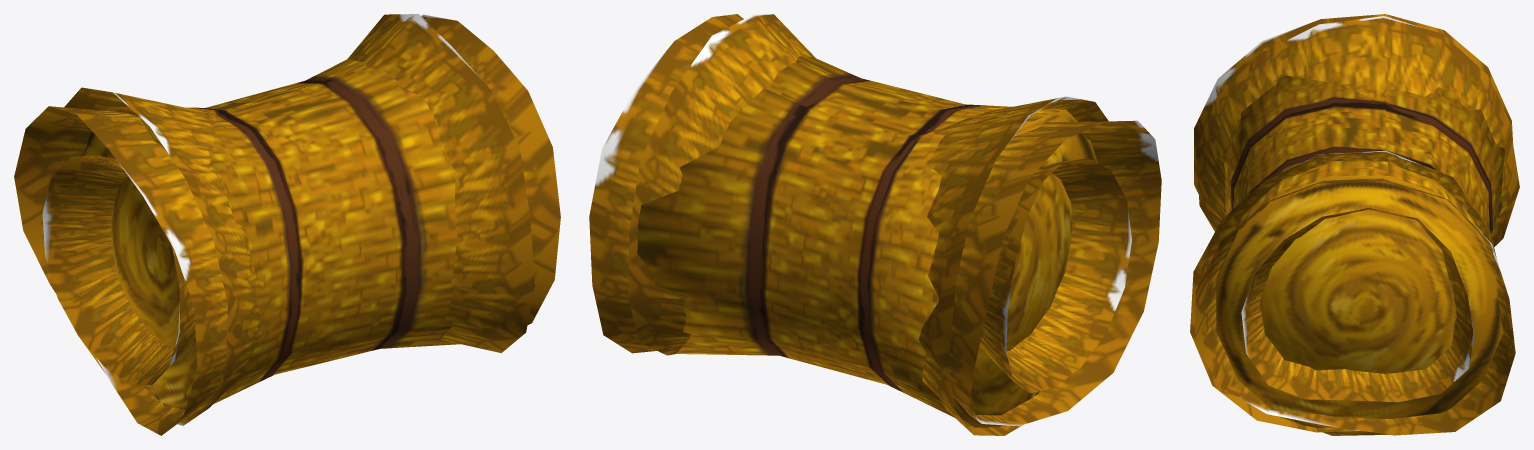
File: SM_PROP_hay_01.glb
3 views of the same model, side by side, from view 1: azimuth 30°, elevation 25°; view 2: azimuth 150°, elevation 25°; view 3: azimuth 270°, elevation 25° (orthographic). The views are drawn at different scales.
Parts seen in each view (by area): view 1: SM_PROP_hay_01_EXPORT; view 2: SM_PROP_hay_01_EXPORT; view 3: SM_PROP_hay_01_EXPORT.
Part boxes in pixels (bbox=[...]): SM_PROP_hay_01_EXPORT: bbox=[14, 14, 560, 435]; SM_PROP_hay_01_EXPORT: bbox=[589, 14, 1161, 435]; SM_PROP_hay_01_EXPORT: bbox=[1190, 14, 1519, 435].
Bounding box in the file's own units: 1.63 × 1.23 × 1.29.
1 material, 1 textured.
